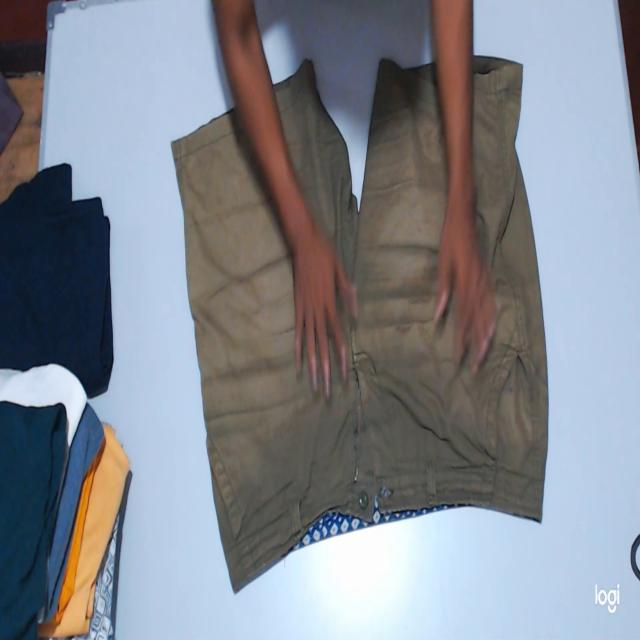new-garment: (172, 56, 546, 591)
